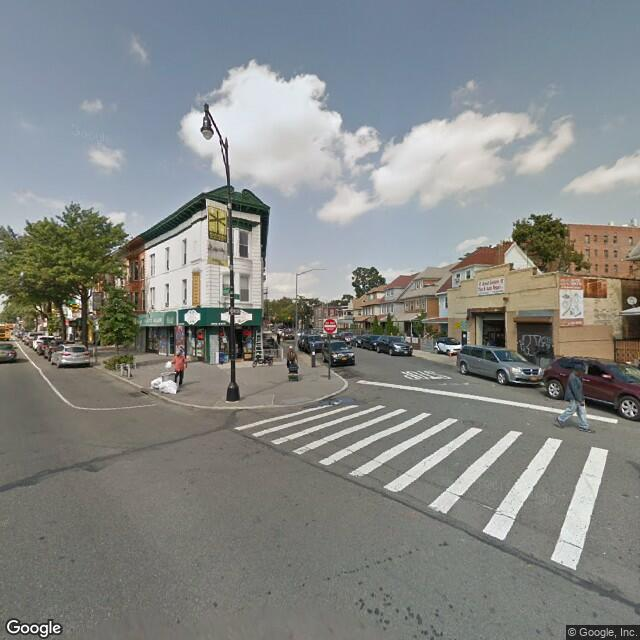litter: (330, 398, 342, 410)
